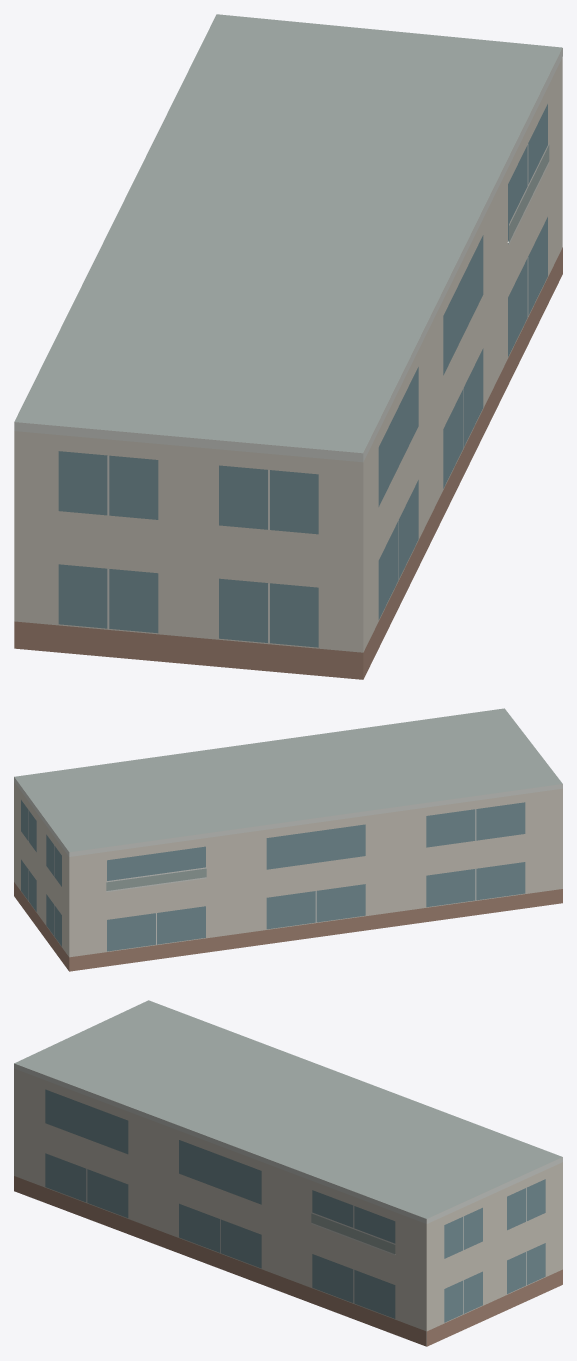
Rendered from survey-upis-32913360.glb.
The picture shows the model from 3 angles, top to bottom: view 1: azimuth 30°, elevation 25°; view 2: azimuth 150°, elevation 25°; view 3: azimuth 270°, elevation 25°; orthographic projection. The views are drawn at different scales.
Visible parts, largest first — view 1: survey-upis-32913360.tmp; view 2: survey-upis-32913360.tmp; view 3: survey-upis-32913360.tmp.
Boxes of the visible parts, <box> form: survey-upis-32913360.tmp: <box>14,14,562,679</box>; survey-upis-32913360.tmp: <box>14,708,562,971</box>; survey-upis-32913360.tmp: <box>14,1000,562,1346</box>.
Bounding box in the file's own units: 22.42 × 6.1 × 23.77.
